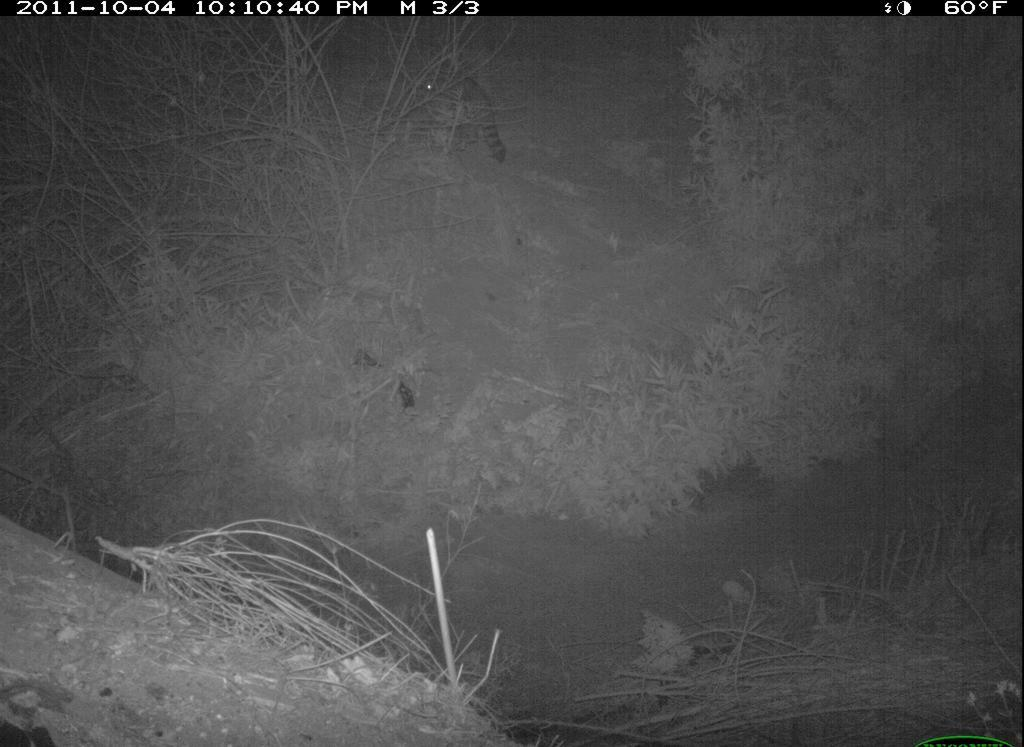raccoon: (406, 54, 511, 161)
